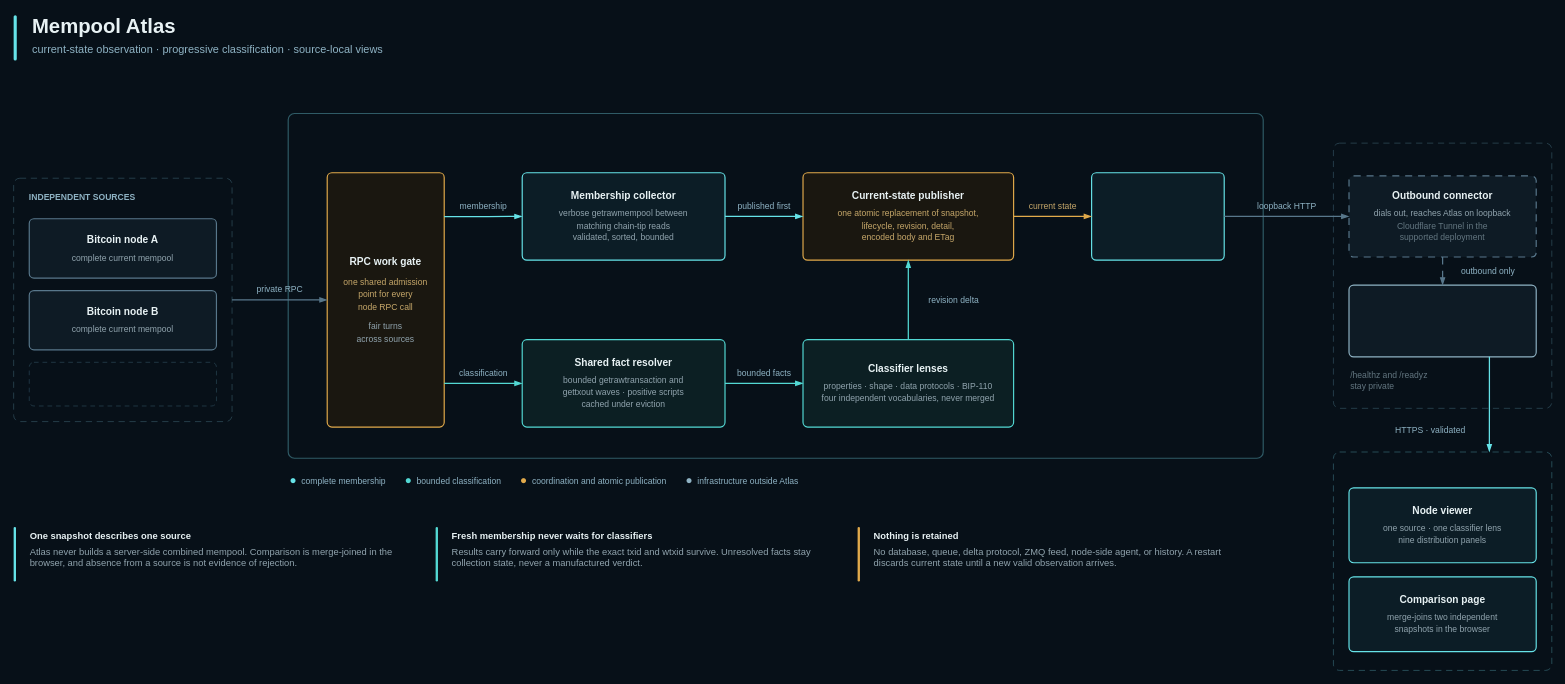
The diagram is 1565 pixels wide and 684 high, and some of its shapes have lost their labels. The shapes that lost their labels are listed below. From the top down, each one's box as (x1, y1, x2, y2) in pixels, then its label:
(1091, 172, 1224, 260): Snapshot API source-local JSON and static web loopback bind only
(287, 113, 1263, 458): MEMPOOL ATLAS SERVICE · ONE PROCESS · MEMORY ONLY
(1333, 142, 1552, 408): PUBLIC INGRESS BOUNDARY
(1348, 284, 1536, 357): Public edge TLS · compression · cache rules WAF · rate limits · headers
(28, 362, 216, 406): up to four configured sources each node stays the authority for its own mempool
(1333, 451, 1552, 670): BROWSER PRODUCTS
